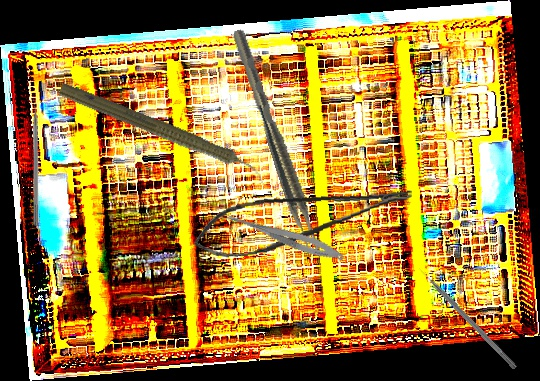Handpiece: (55, 78, 271, 187)
Hook Surgical: (417, 265, 519, 370)
Micro Scissor: (190, 182, 417, 264), (217, 208, 347, 265)
Pusher: (33, 91, 40, 226)
Tissue Forceps: (231, 26, 323, 257)
